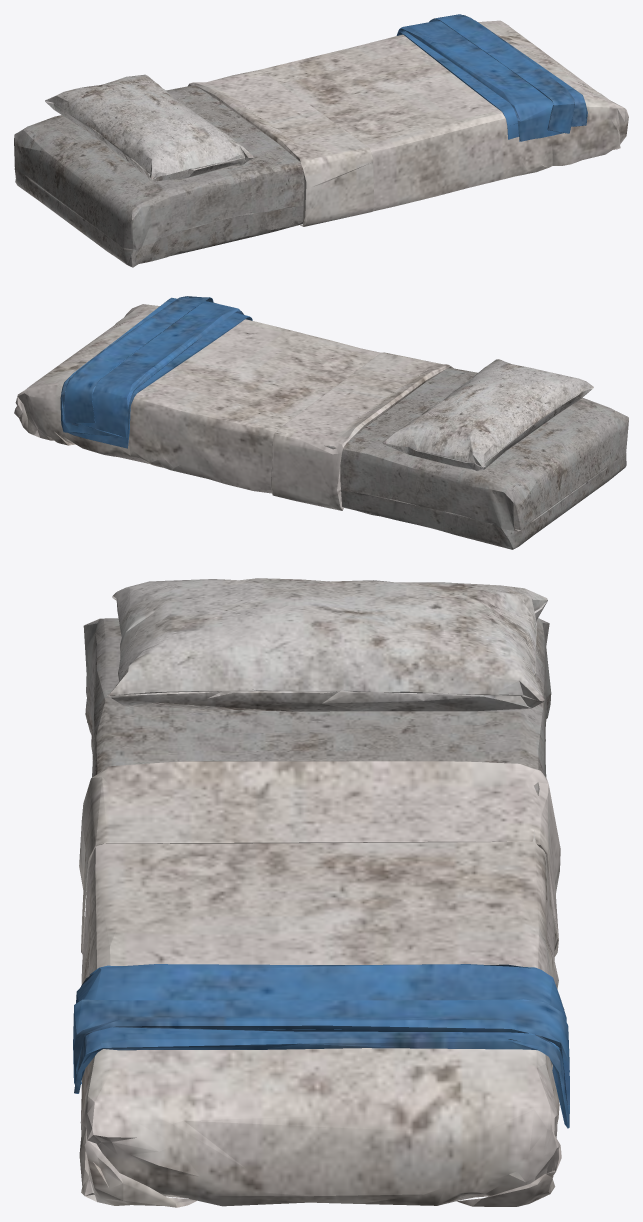
File: shelter_a_bedding.glb
3 renders of one model, top to bottom at view 1: azimuth 30°, elevation 25°; view 2: azimuth 150°, elevation 25°; view 3: azimuth 270°, elevation 25°, orthographic. The views are drawn at different scales.
Visible parts, largest first — view 1: shelter_a_bedding; view 2: shelter_a_bedding; view 3: shelter_a_bedding.
Part boxes in pixels (x1,y1,x2,y2): shelter_a_bedding: (14, 14, 628, 267); shelter_a_bedding: (14, 296, 628, 549); shelter_a_bedding: (73, 578, 569, 1207).
Size of the model in its own units: 2.03 by 0.3973 by 0.8698.
Materials: 4 (4 with a texture image).
